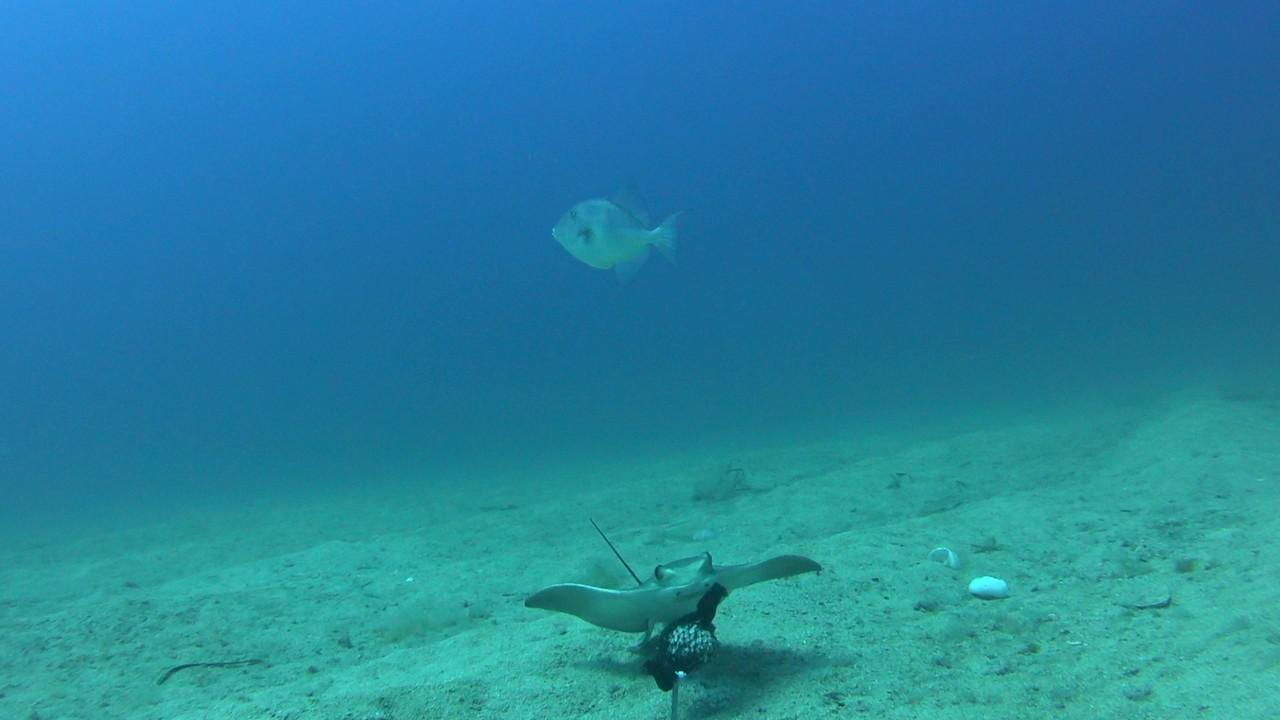balistes: (552, 170, 686, 288)
myliobatis: (509, 503, 854, 627)
